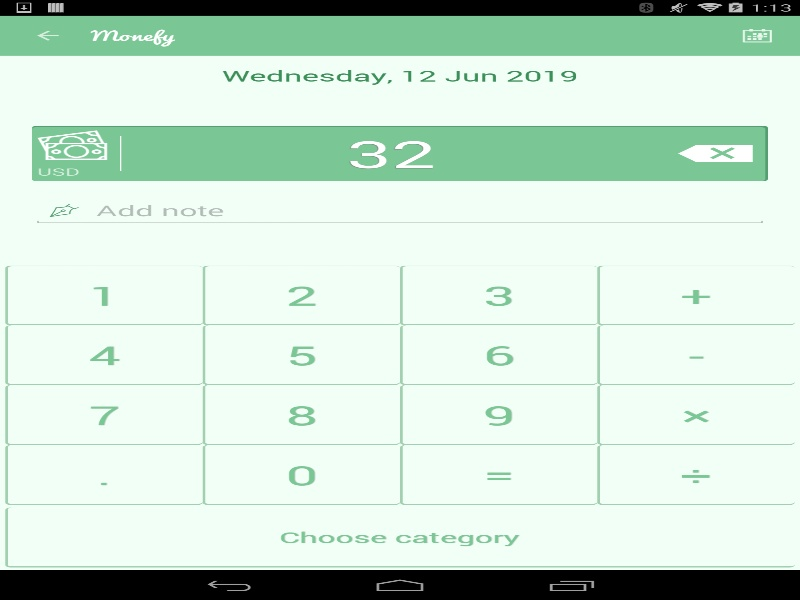Button: (202, 265, 400, 325), (202, 325, 400, 385), (202, 385, 400, 445), (202, 445, 400, 505), (5, 265, 202, 325), (400, 265, 597, 325), (597, 265, 794, 325), (5, 325, 202, 385), (400, 325, 597, 385), (597, 325, 794, 385), (5, 385, 202, 445), (400, 385, 597, 445), (597, 385, 794, 445), (5, 445, 202, 505), (400, 445, 597, 505), (597, 445, 794, 505), (661, 125, 768, 180), (10, 15, 85, 55)
Input: (32, 195, 768, 225)
